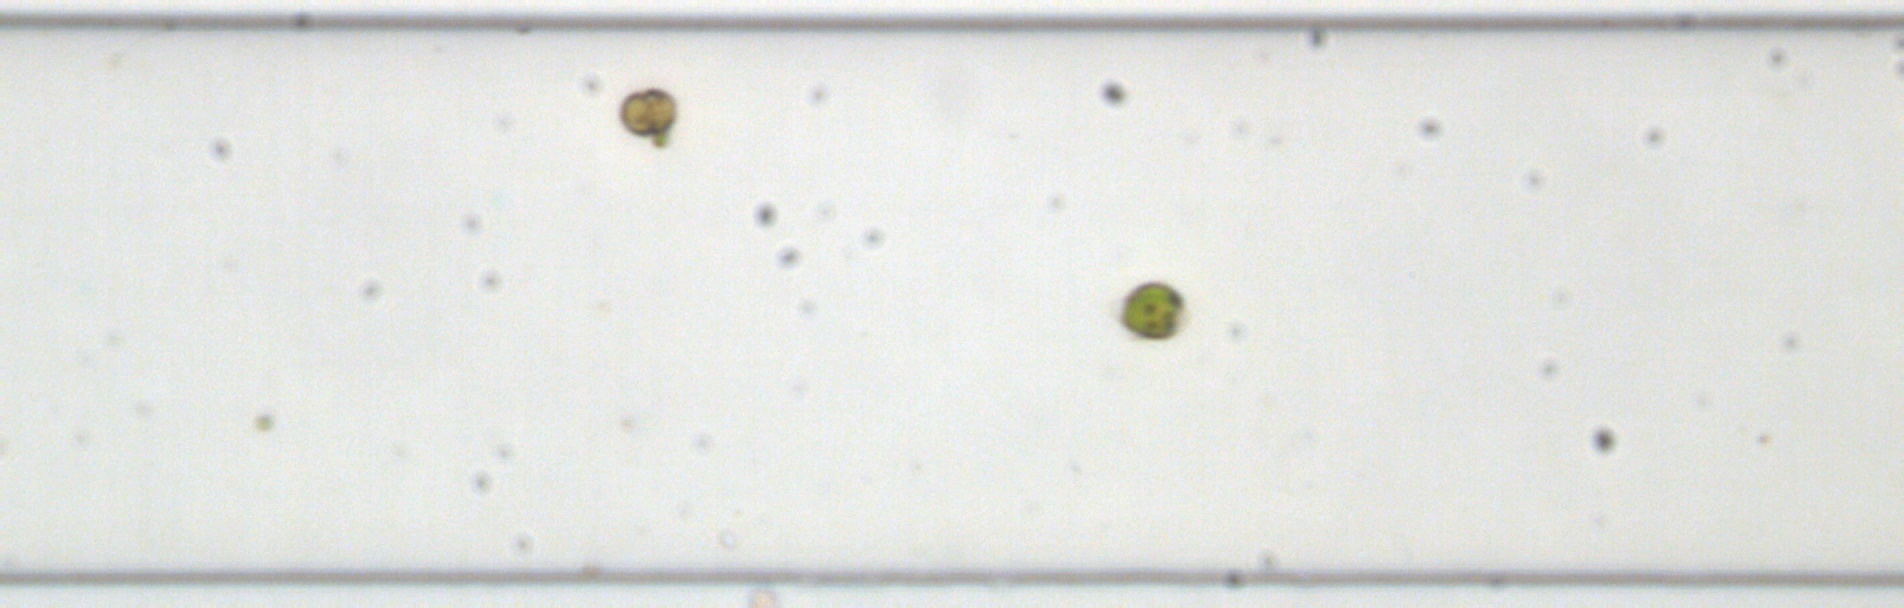Chlorella: (254, 411, 278, 432)
Effrenium: (618, 83, 679, 137)
Haematococcus: (1117, 279, 1185, 340)
